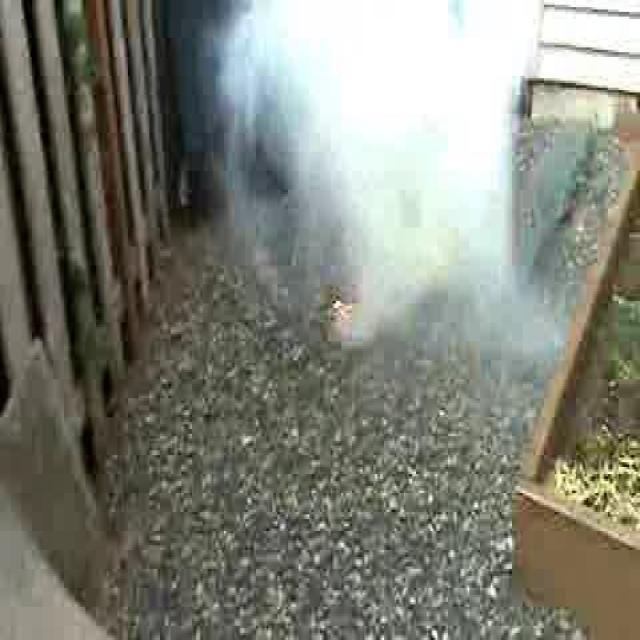Smoke: (194, 0, 587, 403)
